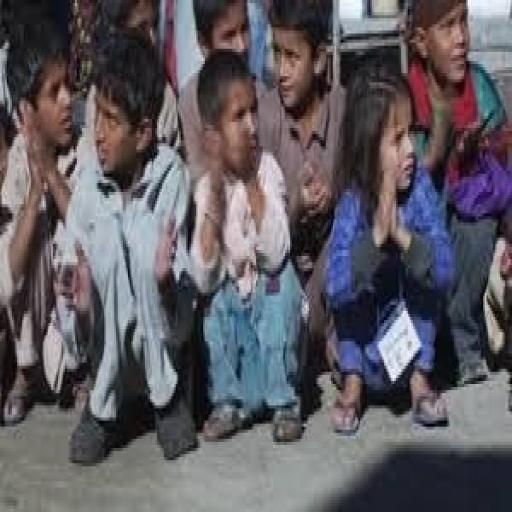clapping: (170, 46, 333, 512), (306, 70, 466, 460), (58, 50, 193, 482), (239, 11, 378, 412), (0, 16, 123, 406)
